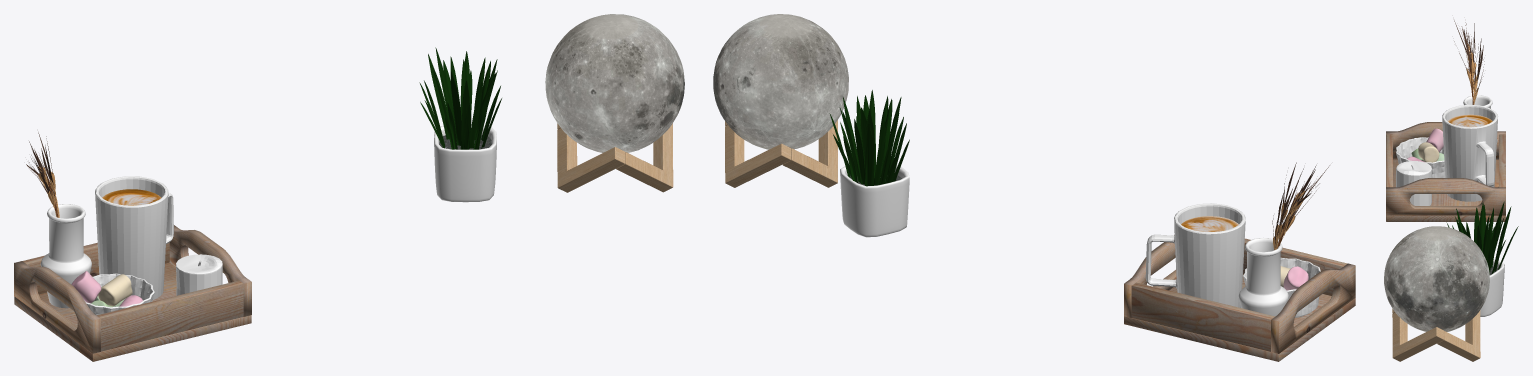
File: Accessories.glb
3 views of the same model, side by side, from view 1: azimuth 30°, elevation 25°; view 2: azimuth 150°, elevation 25°; view 3: azimuth 270°, elevation 25° (orthographic). The views are drawn at different scales.
Visible parts, largest first — view 1: Sphere, Plane, Circle.002, Plane.025, Stand, Cube, Circle, Cylinder.005, Cylinder.006, Circle.003, Cube.005, Circle.004; view 2: Sphere, Plane, Circle.002, Plane.025, Stand, Cube, Circle, Cube.005, Circle.003, Circle.004, Cylinder.006; view 3: Sphere, Plane, Circle.002, Stand, Plane.025, Cylinder.005, Cube.005, Cube, Cylinder.006, Circle.003, Circle.004, Circle.
Part boxes in pixels (x1,y1,x2,y2): Sphere: (545,14,684,152); Plane: (14,225,251,361); Circle.002: (95,176,173,299); Plane.025: (419,47,501,149); Stand: (557,123,673,192); Cube: (434,125,496,202); Circle: (40,204,91,308); Cylinder.005: (176,254,222,295); Cylinder.006: (71,271,142,307); Circle.003: (84,273,154,315); Cube.005: (26,132,59,217); Circle.004: (102,189,161,205); Sphere: (713,14,848,149); Plane: (1124,235,1355,361); Circle.002: (1145,203,1245,307); Plane.025: (829,90,909,186); Stand: (725,120,837,187); Cube: (840,158,909,237); Circle: (1238,238,1288,316); Cube.005: (1272,162,1329,250); Circle.003: (1243,257,1320,317); Circle.004: (1181,216,1238,231); Cylinder.006: (1280,266,1308,290); Sphere: (1384,226,1489,331); Plane: (1386,122,1505,221); Circle.002: (1442,104,1497,201); Stand: (1392,309,1480,361); Plane.025: (1446,201,1518,274); Cylinder.005: (1396,161,1431,205); Cube.005: (1454,20,1484,104); Cube: (1480,259,1504,316); Cylinder.006: (1407,128,1444,162); Circle.003: (1396,137,1445,177); Circle.004: (1447,114,1492,127); Circle: (1463,95,1497,144).
Bounding box in the file's own units: 0.8032 × 0.2296 × 0.1933.
14 materials, 7 textured.
